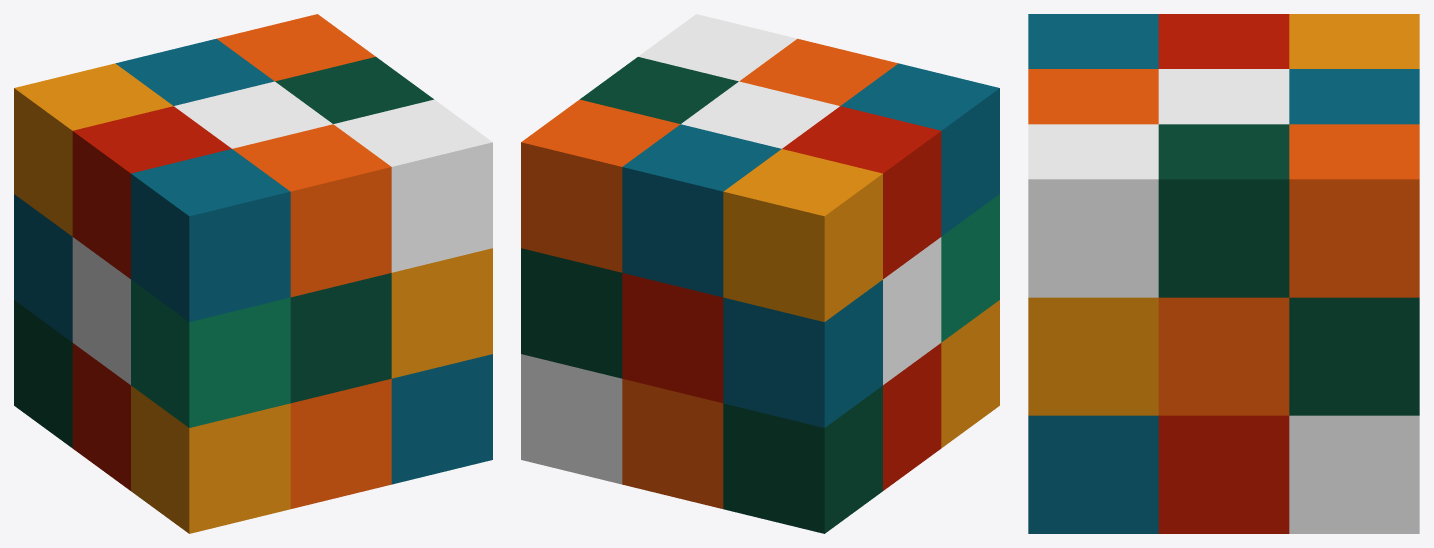
Rendered from RubixCube.obj.
3 renders of one model, left to right at view 1: azimuth 30°, elevation 25°; view 2: azimuth 150°, elevation 25°; view 3: azimuth 270°, elevation 25°, orthographic. The views are drawn at different scales.
Parts seen in each view (by area): view 1: RubixCube; view 2: RubixCube; view 3: RubixCube.
Boxes of the visible parts, x1=… form: RubixCube: x1=14, y1=14, x2=492, y2=533; RubixCube: x1=521, y1=14, x2=999, y2=533; RubixCube: x1=1028, y1=14, x2=1419, y2=533.
Size of the model in its own units: 3 by 3 by 3.
1 material, 1 textured.
